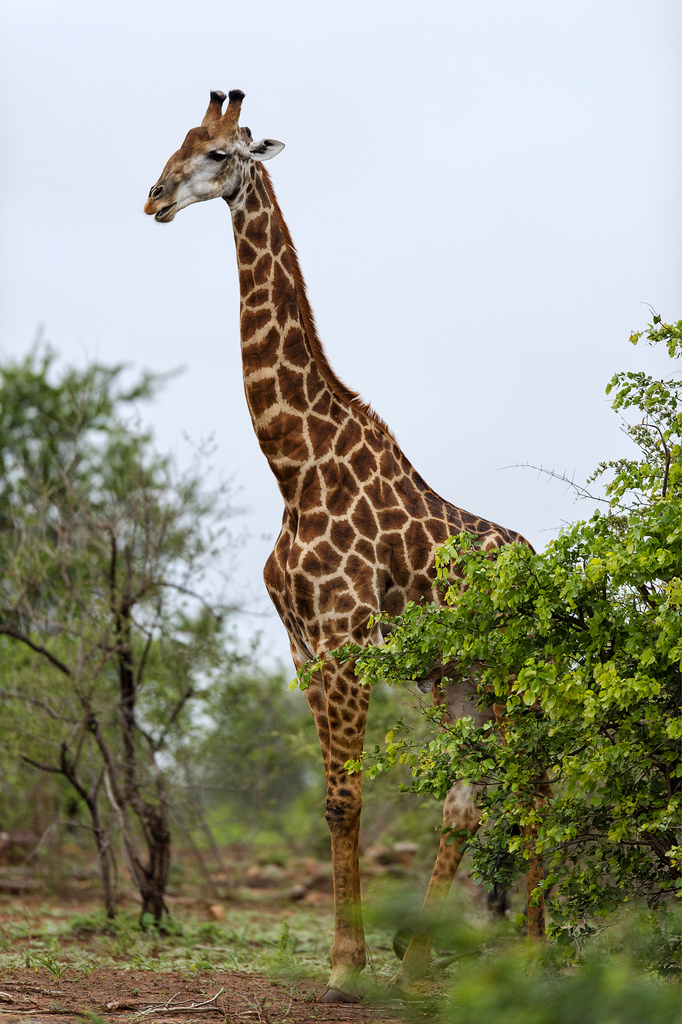giraffe: (145, 79, 588, 934)
